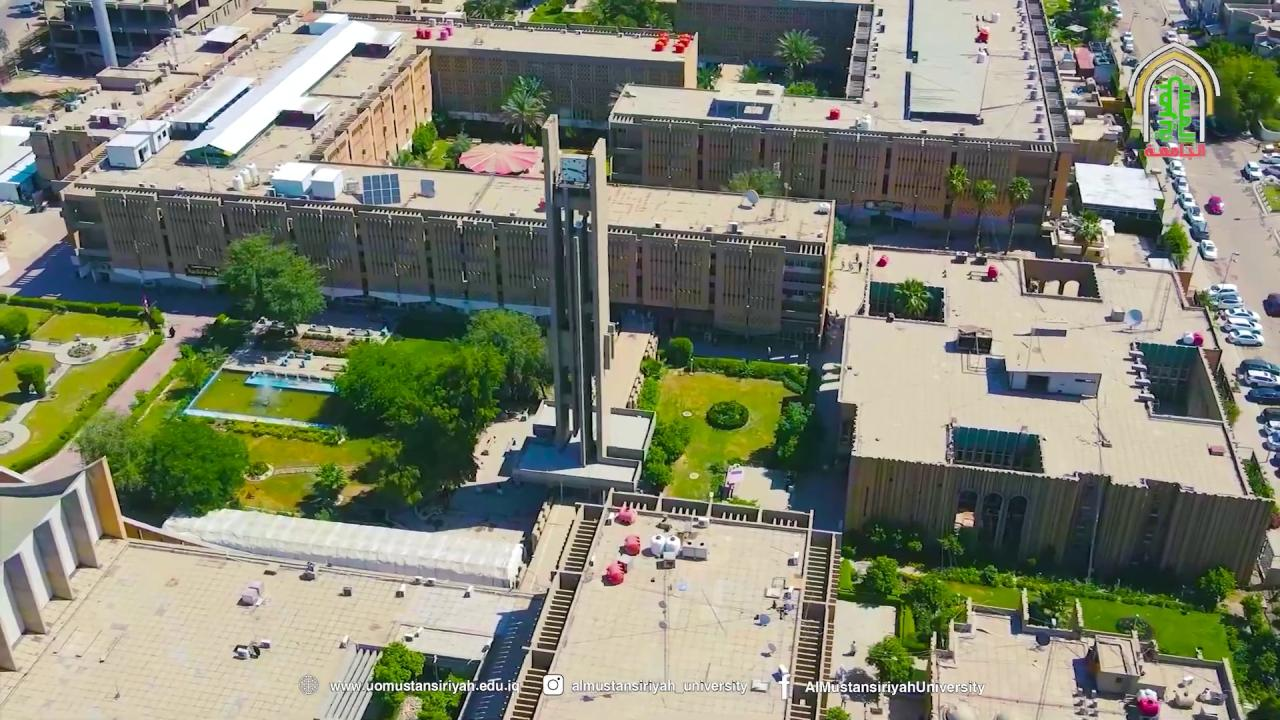car: (1226, 330, 1266, 346), (1241, 359, 1280, 374), (1225, 318, 1261, 334), (1222, 308, 1261, 322), (1204, 285, 1240, 300), (1247, 387, 1280, 402), (1242, 371, 1280, 384), (1264, 291, 1280, 319), (1241, 162, 1263, 182), (1185, 205, 1207, 225), (1198, 239, 1217, 260), (1206, 298, 1244, 308), (1177, 191, 1196, 210), (1191, 220, 1208, 241), (1258, 405, 1280, 421), (1168, 160, 1188, 177), (1172, 176, 1190, 191), (1208, 198, 1224, 214), (1162, 28, 1179, 43), (1260, 151, 1280, 163), (1265, 433, 1280, 448), (1265, 141, 1280, 153), (1266, 420, 1280, 432), (1266, 165, 1280, 177)
fountain: (208, 370, 320, 427)
person: (1148, 91, 1160, 131)
tree: (333, 334, 505, 510), (135, 403, 250, 515), (332, 334, 460, 430), (943, 162, 1033, 254), (460, 306, 547, 401), (70, 405, 147, 494), (219, 229, 293, 318), (262, 252, 327, 335), (1216, 53, 1279, 136), (448, 341, 506, 428), (900, 572, 966, 647), (1039, 0, 1117, 58), (1229, 625, 1279, 711), (370, 640, 425, 717), (388, 119, 471, 169), (365, 435, 423, 506), (498, 73, 551, 147), (1240, 450, 1279, 528), (772, 27, 825, 83), (772, 399, 814, 460), (865, 634, 914, 686), (416, 672, 466, 719), (1004, 175, 1033, 252), (311, 460, 348, 519), (171, 343, 211, 393), (970, 178, 997, 251), (651, 418, 691, 464), (1214, 362, 1241, 427), (863, 554, 902, 598), (1038, 0, 1072, 48), (726, 166, 779, 195), (893, 277, 931, 317), (1198, 564, 1236, 604), (1160, 221, 1190, 269), (642, 445, 673, 490), (944, 164, 969, 218), (705, 398, 749, 428), (443, 123, 472, 168), (1038, 586, 1069, 628), (14, 361, 47, 397), (461, 0, 515, 21), (409, 119, 438, 158), (1239, 592, 1265, 635), (0, 305, 30, 342), (1074, 207, 1103, 245), (1087, 5, 1116, 43), (936, 530, 964, 568), (665, 335, 694, 370), (1006, 175, 1033, 209), (636, 375, 661, 411), (1052, 27, 1083, 54), (706, 460, 728, 497), (1120, 91, 1134, 147), (1038, 0, 1072, 22), (696, 64, 721, 91), (784, 79, 818, 96), (979, 563, 998, 586), (823, 704, 850, 719), (1109, 69, 1121, 98)
